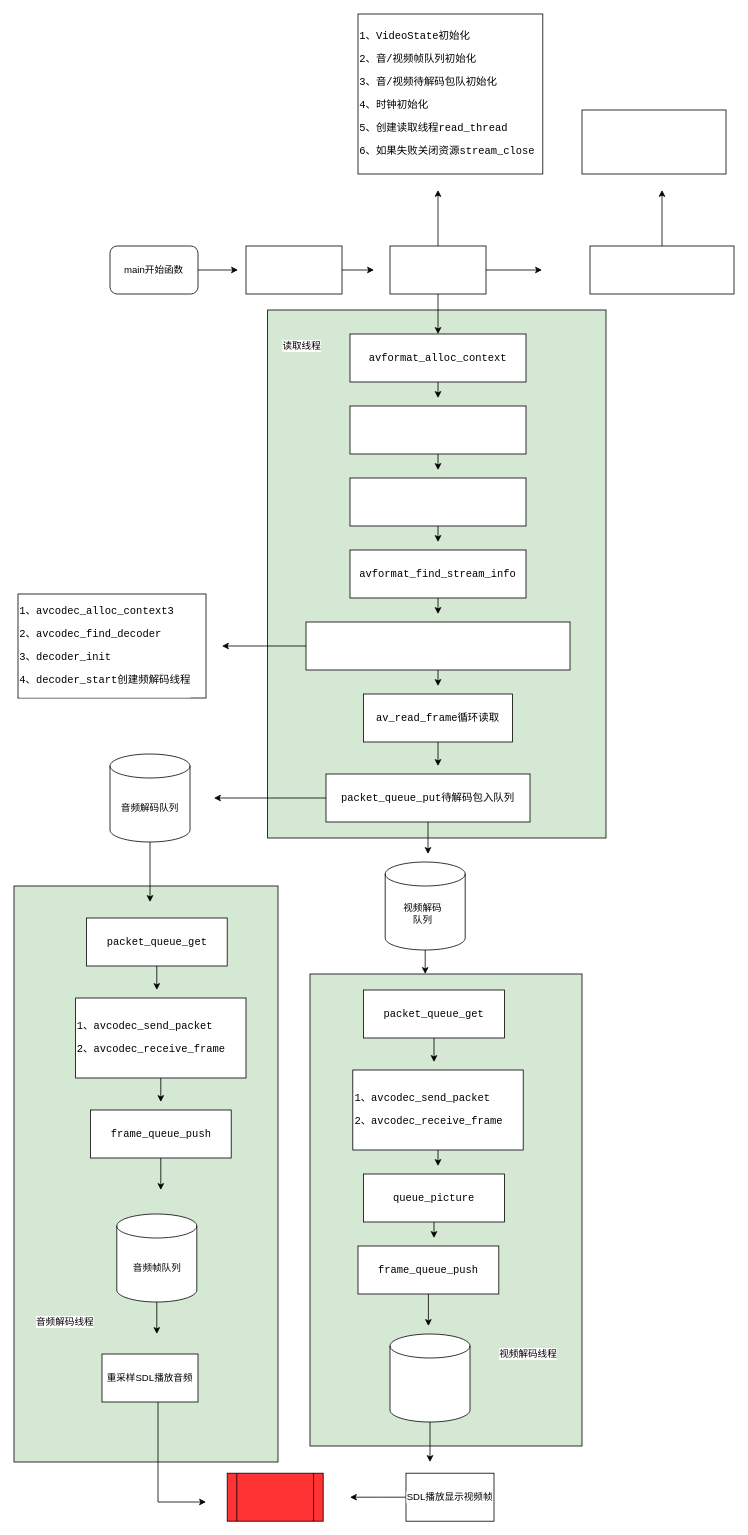
This 748x1535 diagram has some shape labels left out. The centre of each missing label's shape, as x and y in pixels:
1、seek操作 2、退出操作 3、视频帧显示控制 4、键盘按键等相关事件处理: point 653,141
avformat_open_input: point 437,501
event_loop事件循环: point 661,269
interrupt_callback: point 437,429
SDL初始化: point 293,269
stream_component_open打开音/视频流/字幕流: point 437,645
stream_open: point 437,269
视频帧队列: point 429,1377
音视频同步: point 274,1496
